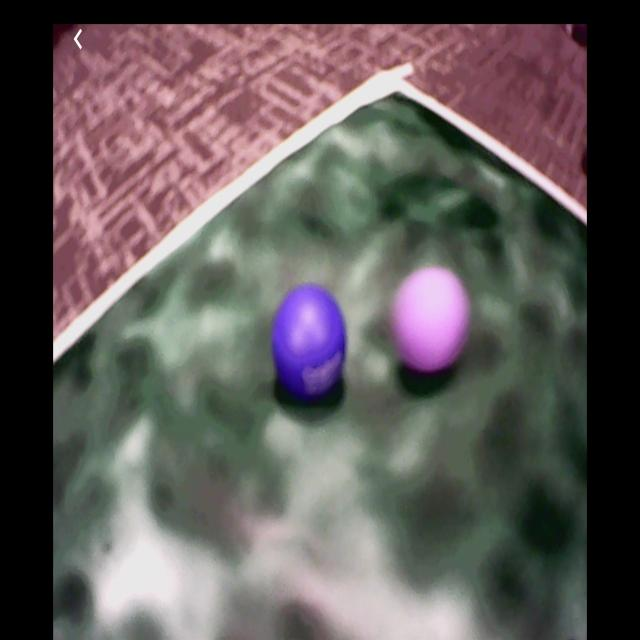ball: (275, 284, 348, 401), (391, 266, 469, 374)
